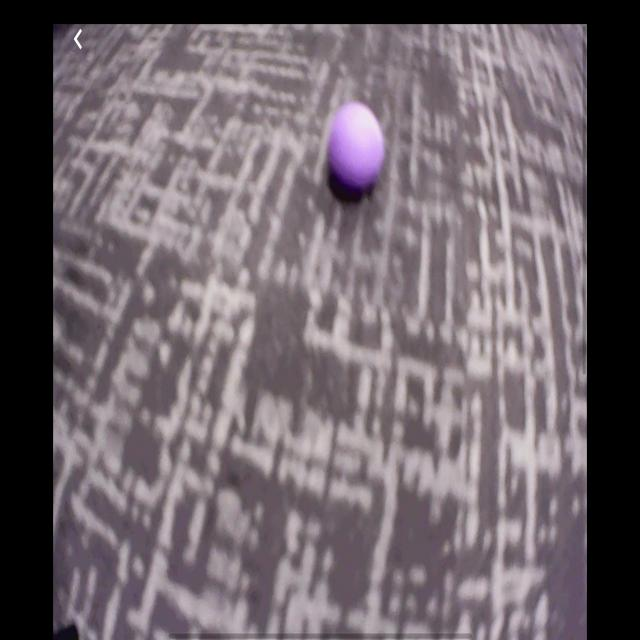ball: (329, 102, 385, 193)
